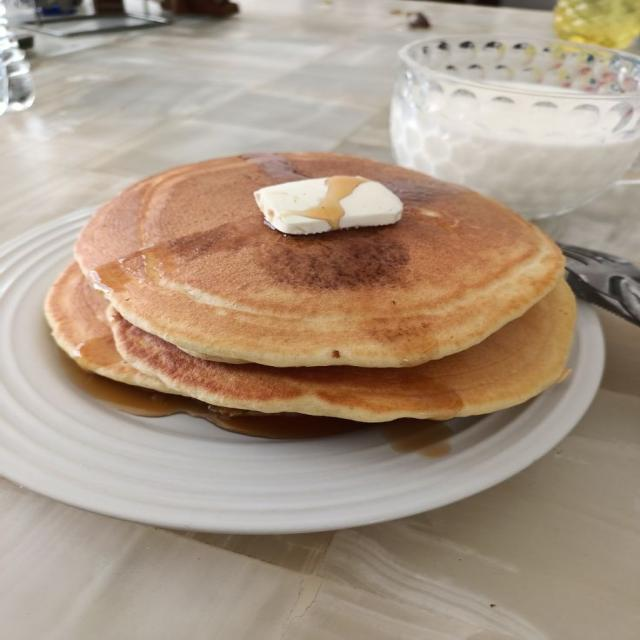pancake: (76, 154, 563, 367), (112, 281, 574, 422), (45, 263, 253, 420), (45, 263, 172, 392)
